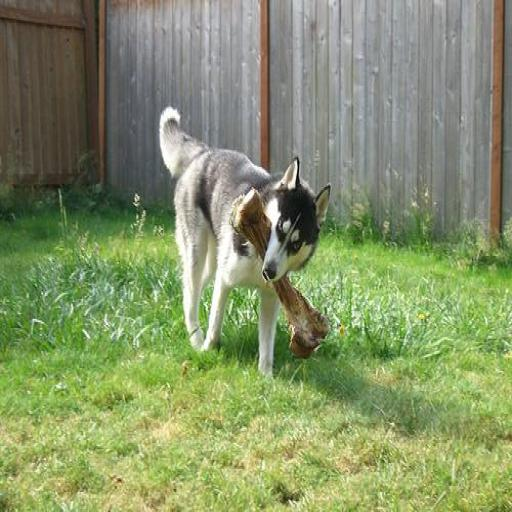dog_face: (263, 165, 330, 287)
